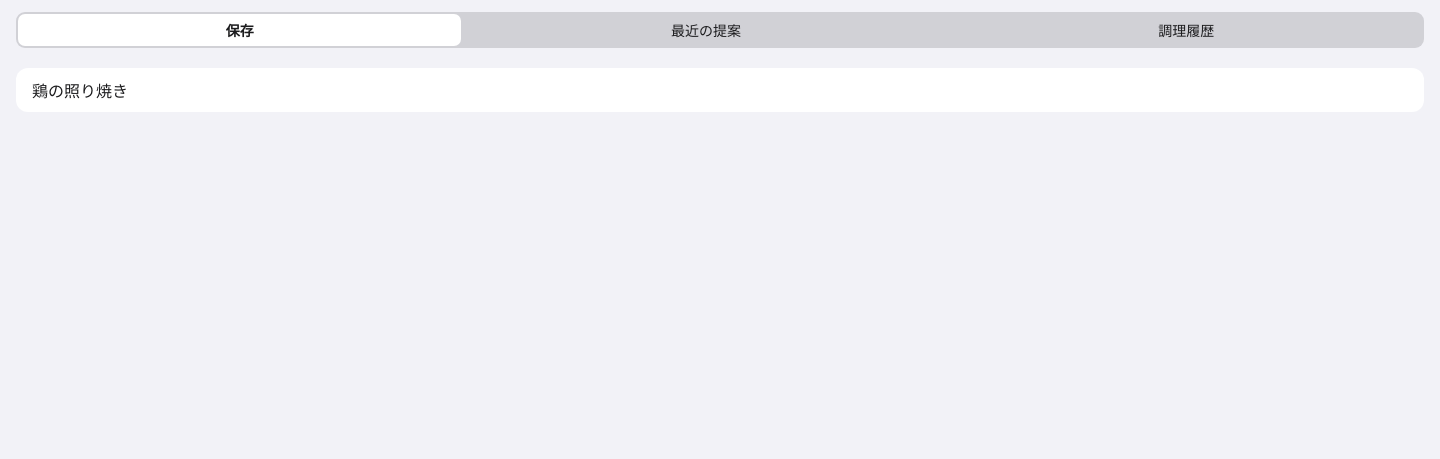
Test: RecipesScreen 区分の切替（D-58） › 「最近の提案」「調理履歴」を選ぶと、その区分だけを表示する
Click the tab "最近の提案". click: [706, 30]
box: [463,14,949,46]
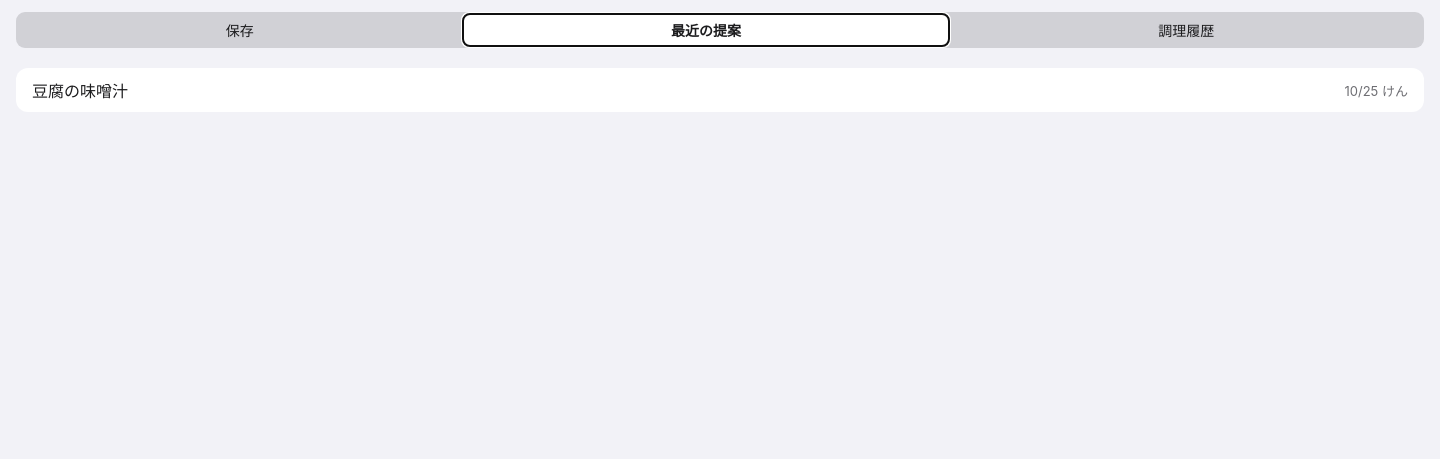
Check: the list named "最近提案された料理" is shown, box [16,68,1424,112]
Check: the list "保存した料理" is gone
Click the tab "調理履歴". click: [1186, 30]
box: [951,14,1422,46]
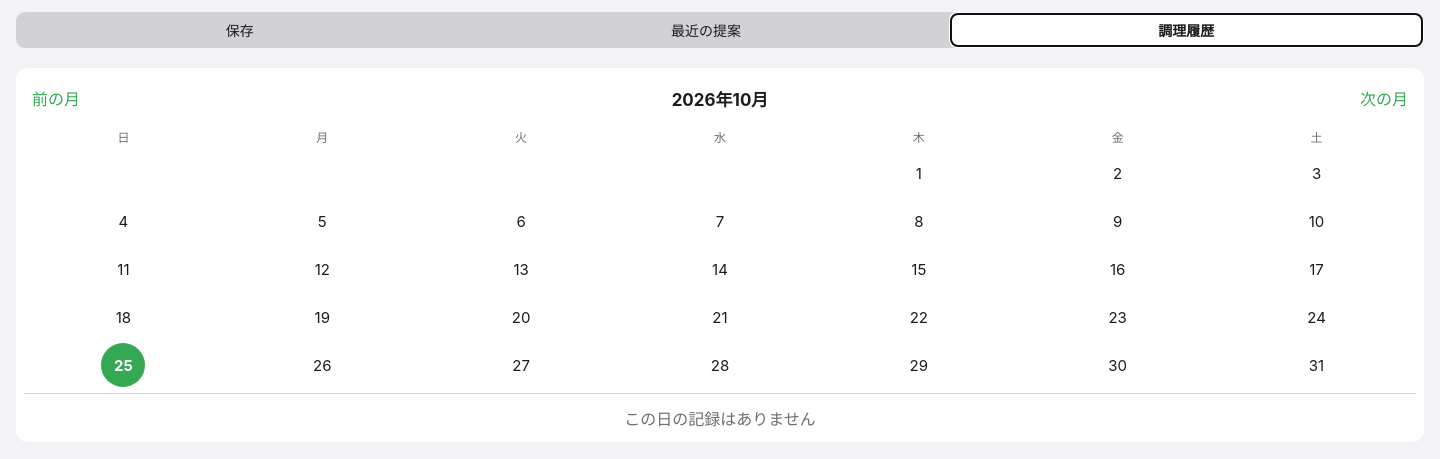
Check: the table named "調理履歴" is shown, box [24,124,1416,389]
Check: the list "最近提案された料理" is gone
